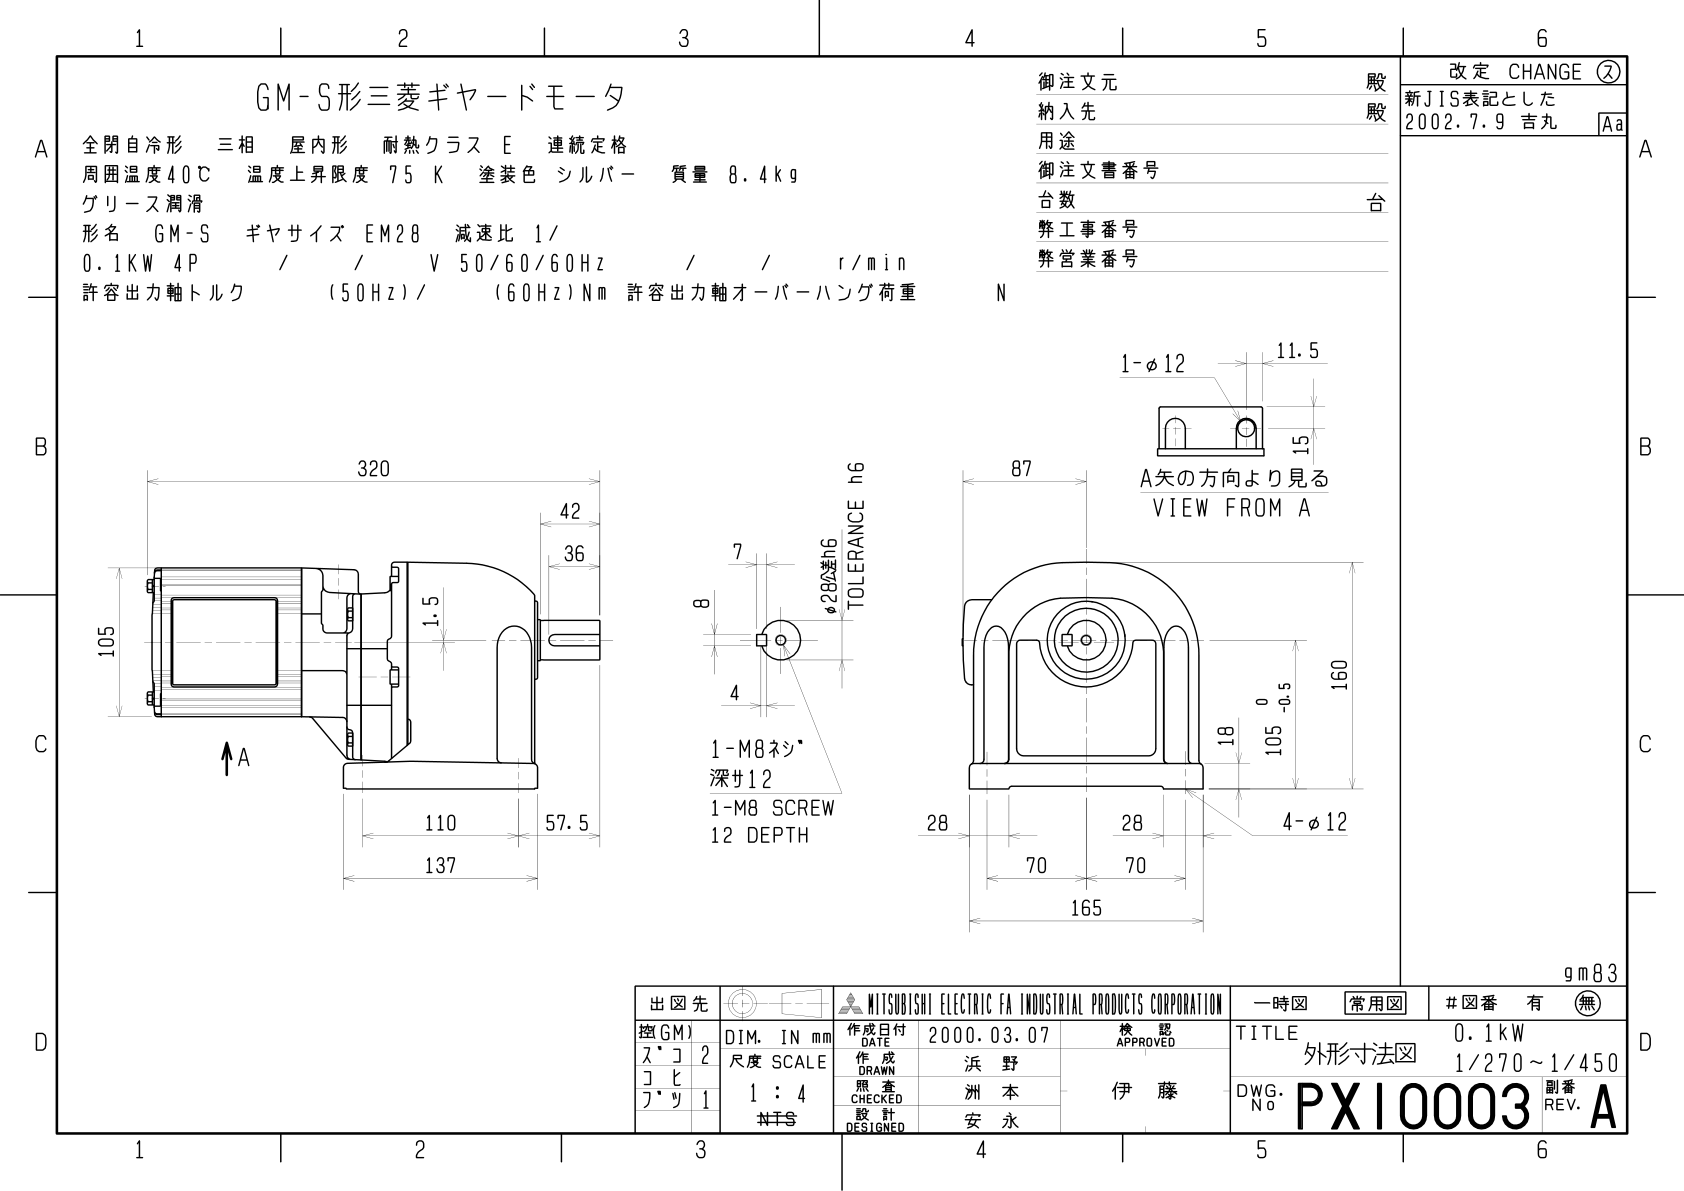GM_S_屋内＿三相_脚: (9, 15, 1684, 1191)
